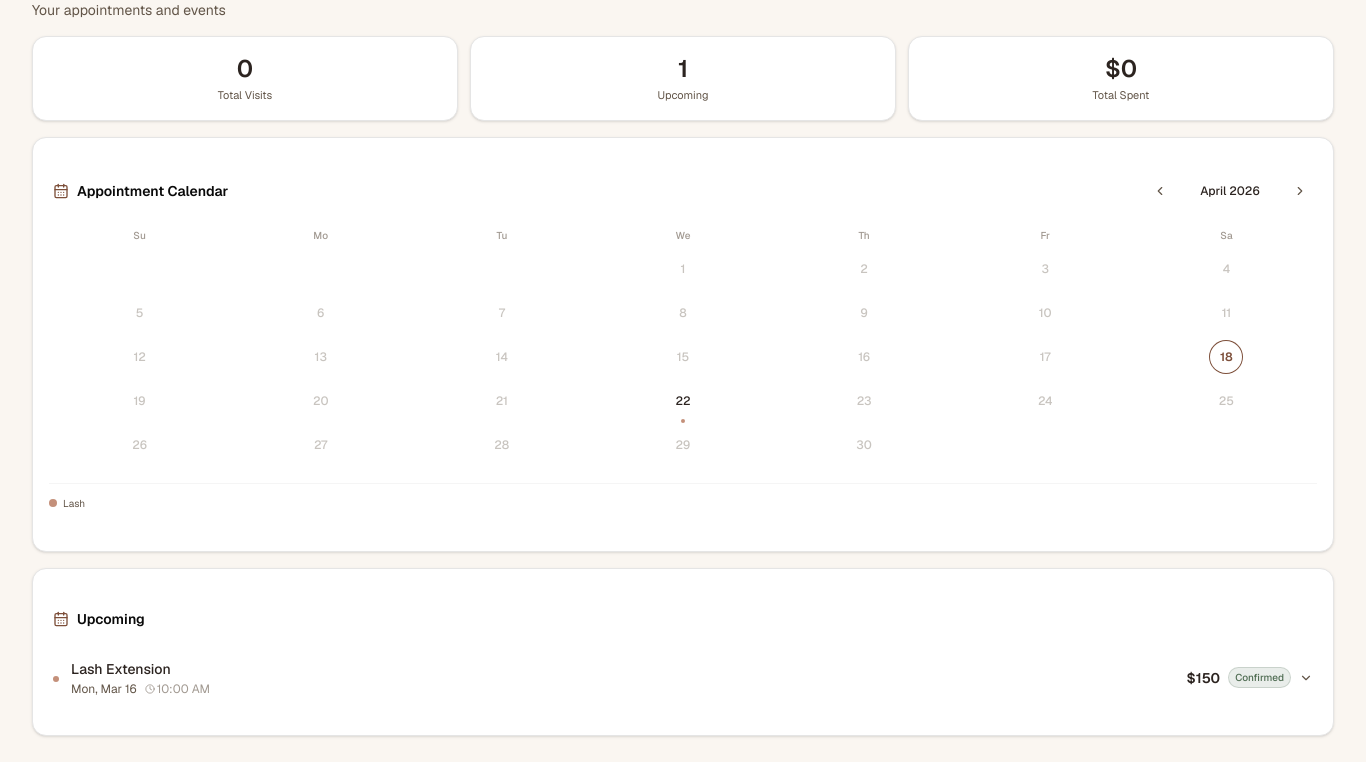
Scenario: ClientBookingsPage › booking card expansion › expands booking card to show details on click
(page scrolled)
Click the button "Lash Extension".
click(121, 668)  # box [33,644,1333,710]
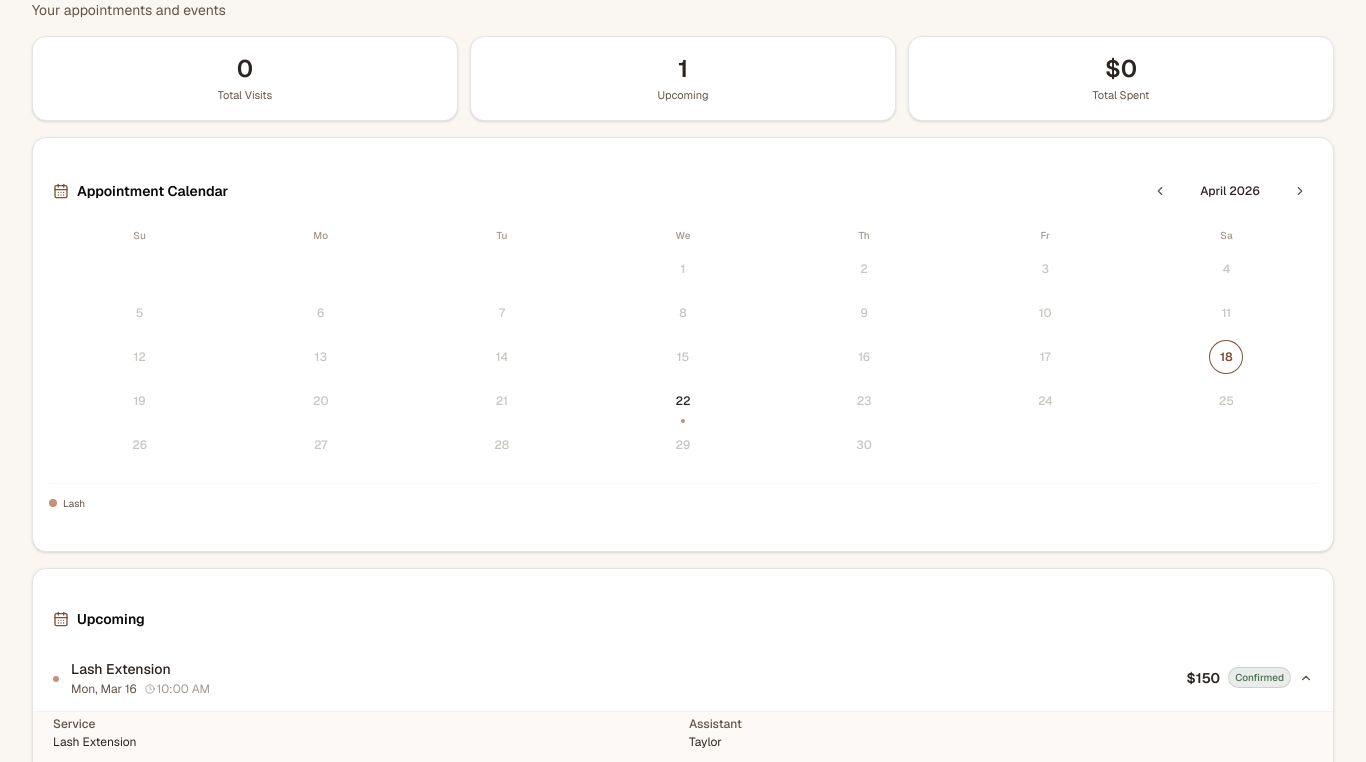
Result: the text "Assistant" is shown at [689,716,742,732]
Result: the text "Taylor" is shown at [689,734,722,750]
